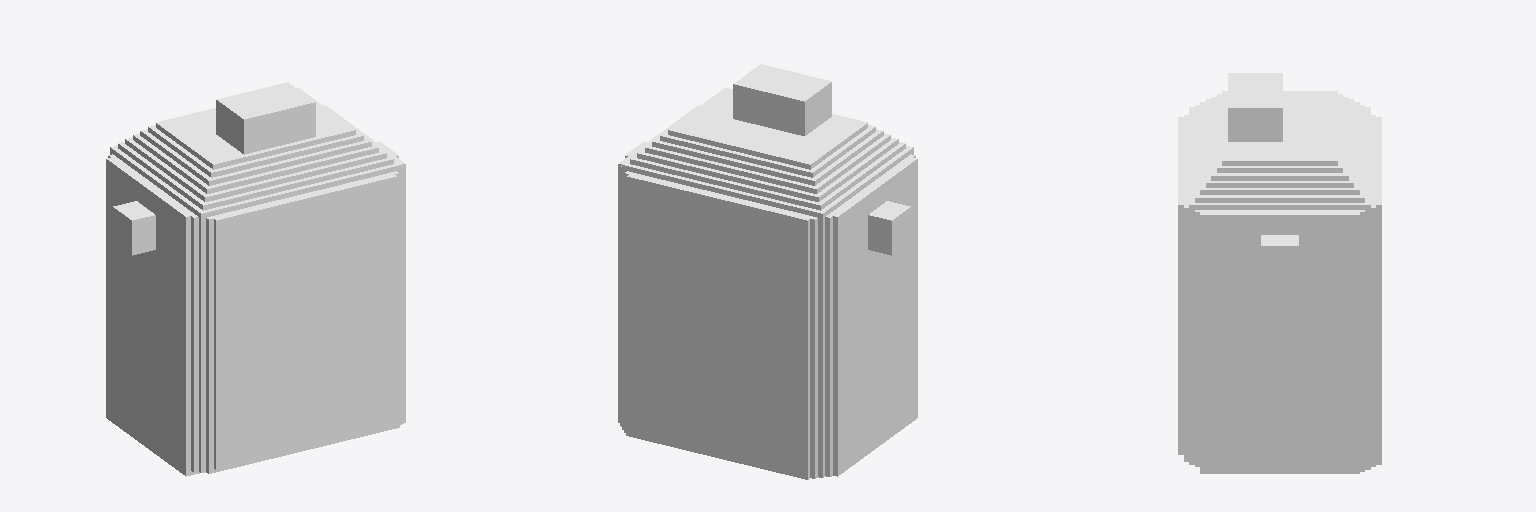
File: HeavyRobot.obj
The picture shows the model from 3 angles: view 1: azimuth 30°, elevation 25°; view 2: azimuth 150°, elevation 25°; view 3: azimuth 270°, elevation 25°; orthographic projection.
Parts seen in each view (by area): view 1: object 1; view 2: object 1; view 3: object 1.
Boxes of the visible parts, x1,y1,x2,y2 form: object 1: [106, 82, 405, 476]; object 1: [618, 64, 917, 479]; object 1: [1178, 73, 1381, 473].
Bounding box in the file's own units: 5.6 × 6.6 × 3.7.